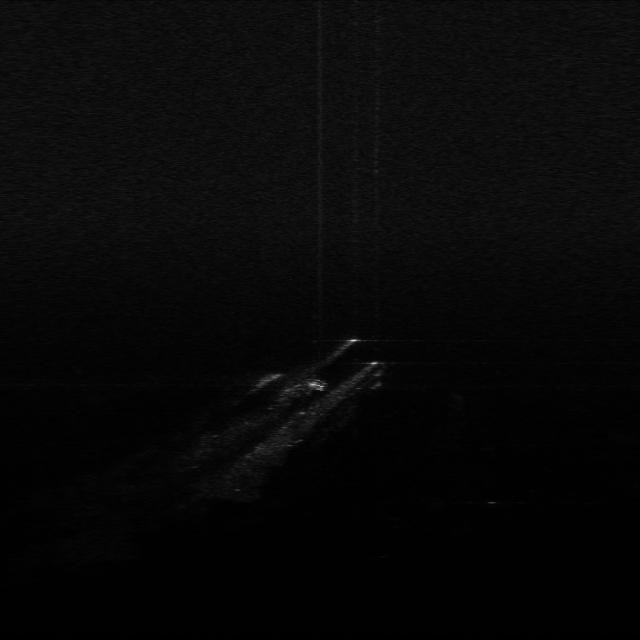rov: (303, 376, 331, 394)
